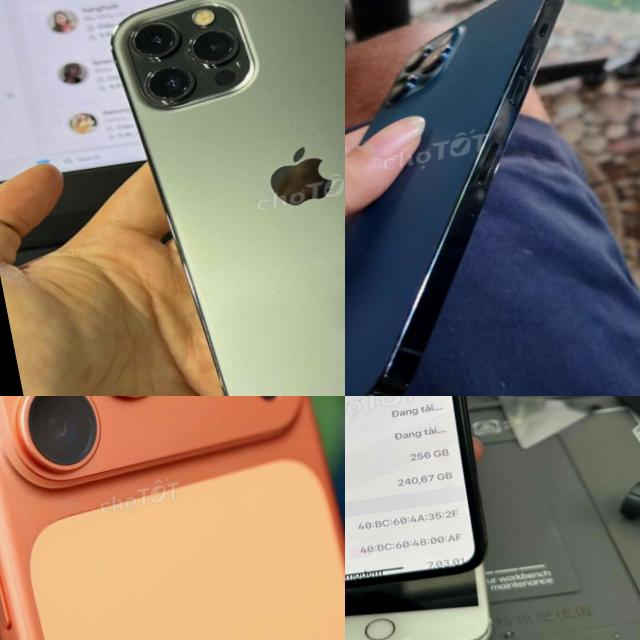gen_12_13: (345, 0, 640, 396), (97, 0, 345, 396)
gen_17: (0, 396, 345, 640)
gen_x_xs: (345, 396, 484, 589)
